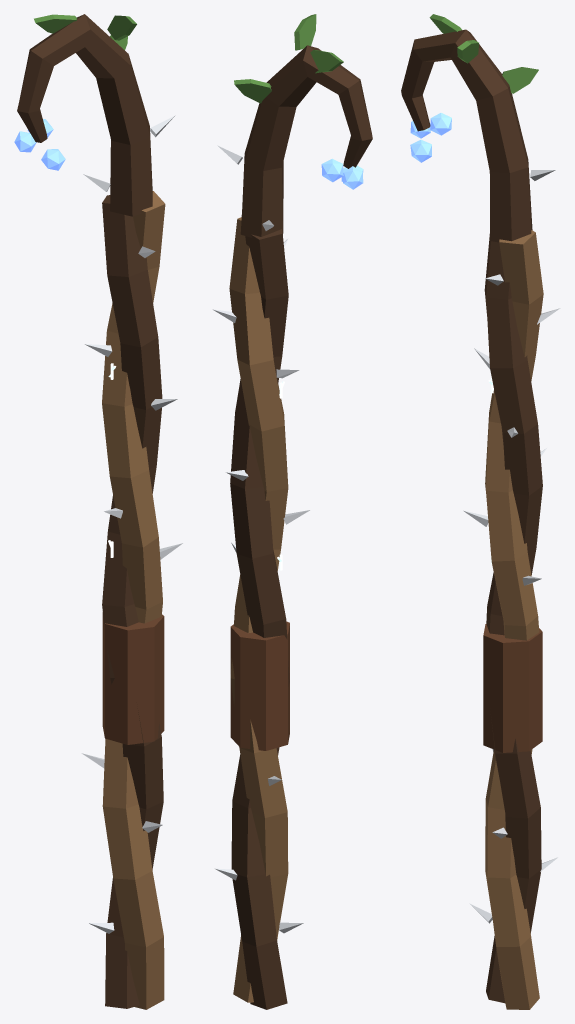
Rendered from Weapon_BrambleCrook.glb.
3 views of the same model, side by side, from view 1: azimuth 30°, elevation 25°; view 2: azimuth 150°, elevation 25°; view 3: azimuth 330°, elevation 25° (orthographic). The views are drawn at different scales.
Visible parts, largest first — view 1: WpnWoodDark__WpnWoodDark, WpnWood__WpnWood, WpnGrip__WpnGrip, WpnEdge__WpnEdge, WpnLeaf__WpnLeaf, WpnCore__WpnCore; view 2: WpnWoodDark__WpnWoodDark, WpnWood__WpnWood, WpnGrip__WpnGrip, WpnLeaf__WpnLeaf, WpnEdge__WpnEdge, WpnCore__WpnCore; view 3: WpnWoodDark__WpnWoodDark, WpnWood__WpnWood, WpnGrip__WpnGrip, WpnLeaf__WpnLeaf, WpnEdge__WpnEdge, WpnCore__WpnCore.
Part boxes in pixels (x1,y1,x2,y2): WpnWoodDark__WpnWoodDark: (17,14,163,1008); WpnWood__WpnWood: (102,191,165,1009); WpnGrip__WpnGrip: (102,612,164,744); WpnEdge__WpnEdge: (81,116,182,933); WpnLeaf__WpnLeaf: (34,14,136,49); WpnCore__WpnCore: (14,119,65,170); WpnWoodDark__WpnWoodDark: (230,45,372,1009); WpnWood__WpnWood: (229,217,288,1002); WpnGrip__WpnGrip: (230,621,289,750); WpnLeaf__WpnLeaf: (234,14,343,103); WpnEdge__WpnEdge: (212,145,309,933); WpnCore__WpnCore: (321,158,363,189); WpnWoodDark__WpnWoodDark: (401,29,542,1003); WpnWood__WpnWood: (485,230,543,1009); WpnGrip__WpnGrip: (483,624,542,752); WpnLeaf__WpnLeaf: (429,14,538,93); WpnEdge__WpnEdge: (463,170,560,923); WpnCore__WpnCore: (410,113,451,162).
Bounding box in the file's own units: 0.0151 × 0.0907 × 0.0087.
